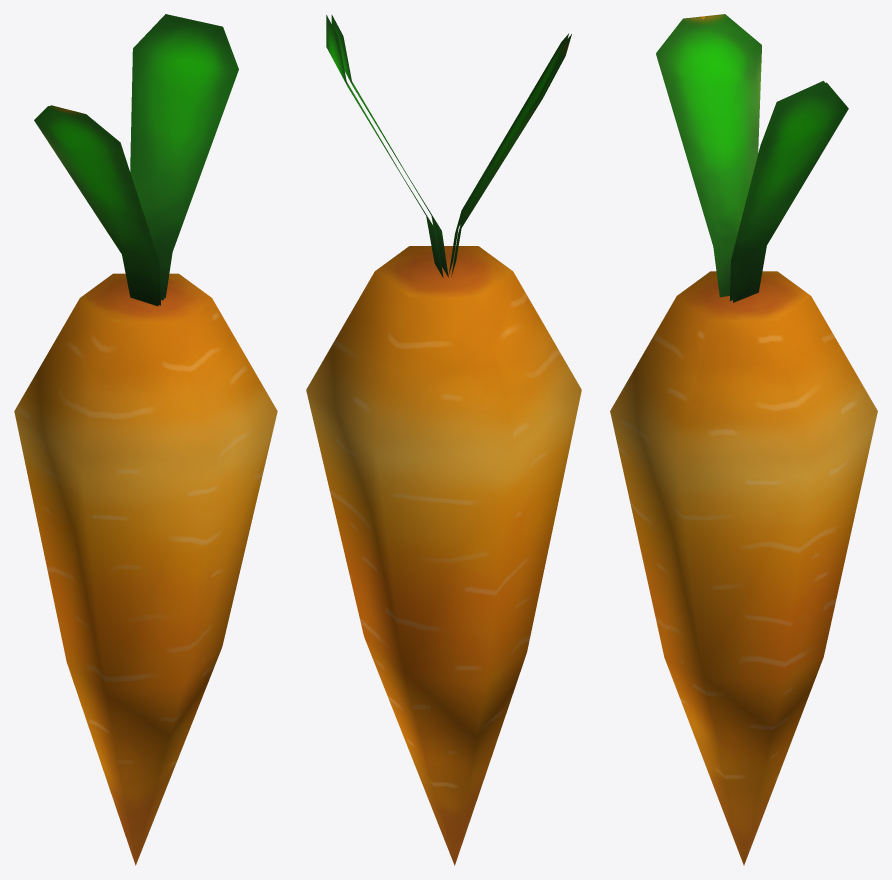
The model's file is carrot.fbx.
The picture shows the model from 3 angles, left to right: view 1: azimuth 30°, elevation 25°; view 2: azimuth 150°, elevation 25°; view 3: azimuth 270°, elevation 25°; orthographic projection. The views are drawn at different scales.
Parts seen in each view (by area): view 1: carrot; view 2: carrot; view 3: carrot.
Boxes of the visible parts, x1,y1,x2,y2 form: carrot: (14,14,277,865); carrot: (306,14,581,865); carrot: (610,14,877,865).
Bounding box in the file's own units: 0.9206 × 3.38 × 1.
